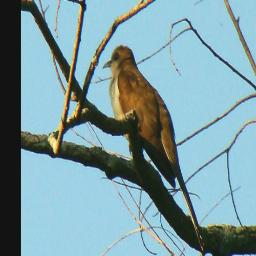Cuckoo: (103, 44, 179, 192)
